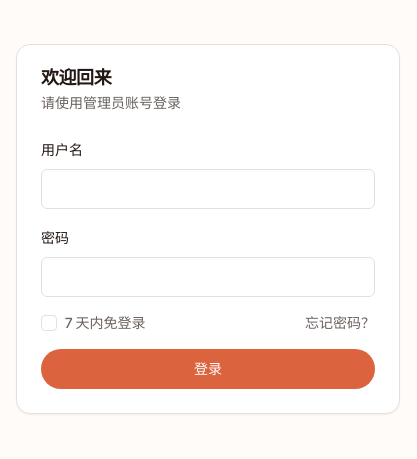
Scenario: LoginPage › shows validation errors when fields empty
Step 1. Click the button "登录" → coordinates (208, 369), box 41,349 -> 375,389
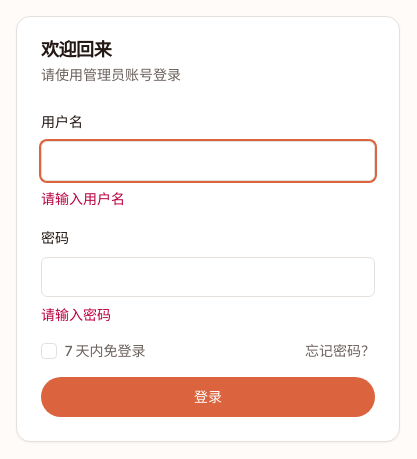
expect the text "请输入用户名" is shown: met, box 41,190 -> 125,207
expect the text "请输入密码" is shown: met, box 41,306 -> 111,323
